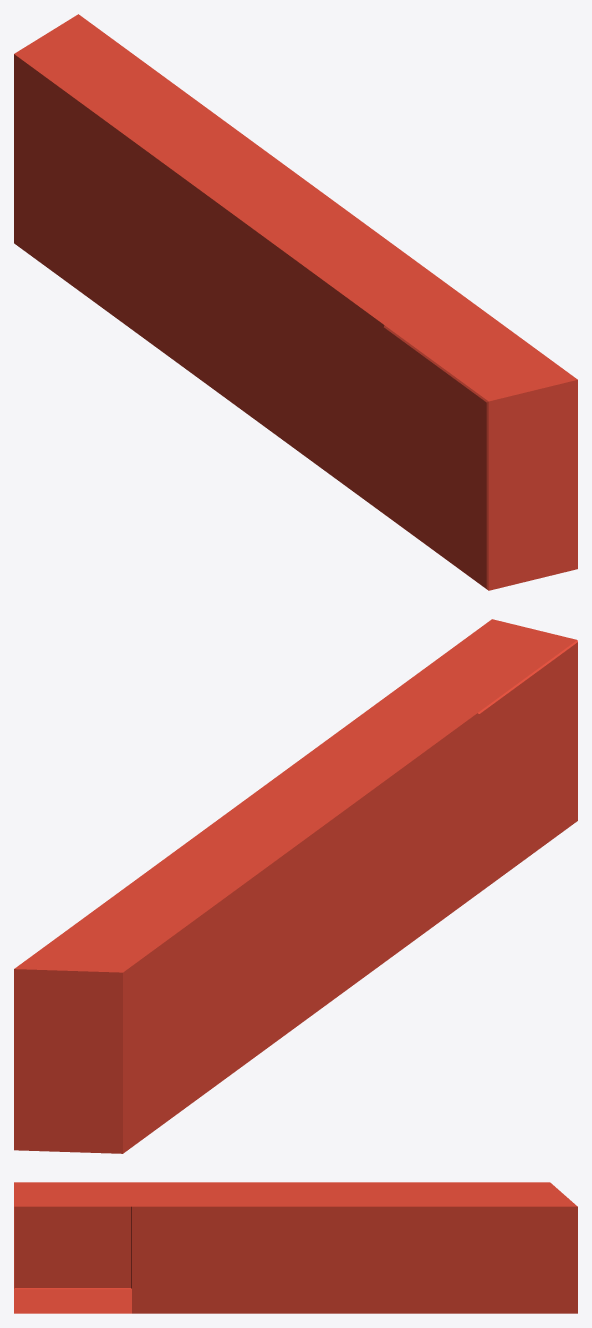
Rendered from missile.glb.
3 views of the same model, one above another, from view 1: azimuth 30°, elevation 25°; view 2: azimuth 150°, elevation 25°; view 3: azimuth 270°, elevation 25° (orthographic). The views are drawn at different scales.
Parts seen in each view (by area): view 1: Cube; view 2: Cube; view 3: Cube.
Boxes of the visible parts, box(x1,y1,x2,y2) form: Cube: box(14, 14, 577, 590); Cube: box(14, 619, 577, 1153); Cube: box(14, 1182, 577, 1313).
Bounding box in the file's own units: 1 × 2 × 9.56.
